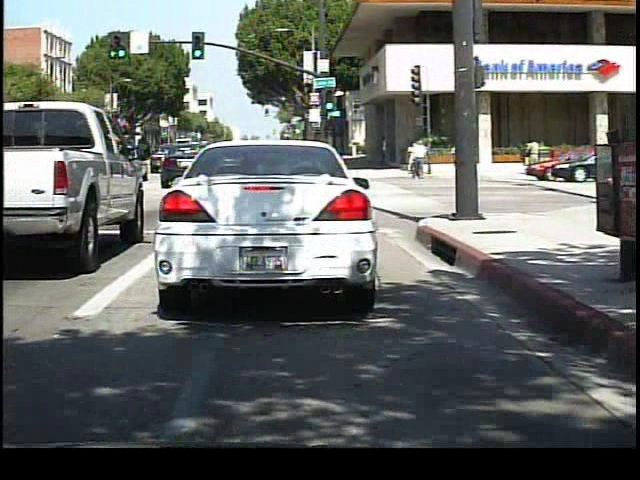person: (522, 135, 544, 176), (409, 136, 429, 180), (447, 136, 465, 179)
